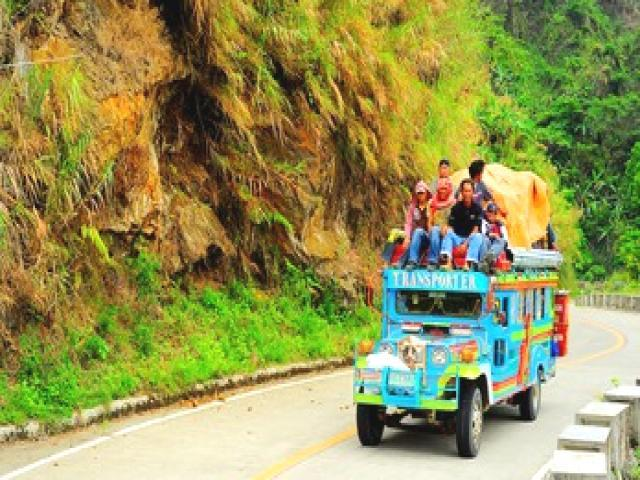jeepney: (350, 223, 571, 457)
